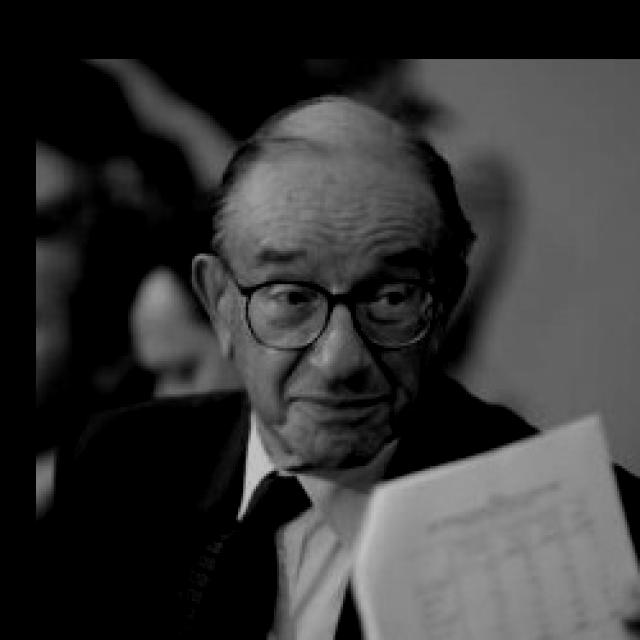real: (224, 136, 446, 474), (250, 271, 429, 336)
